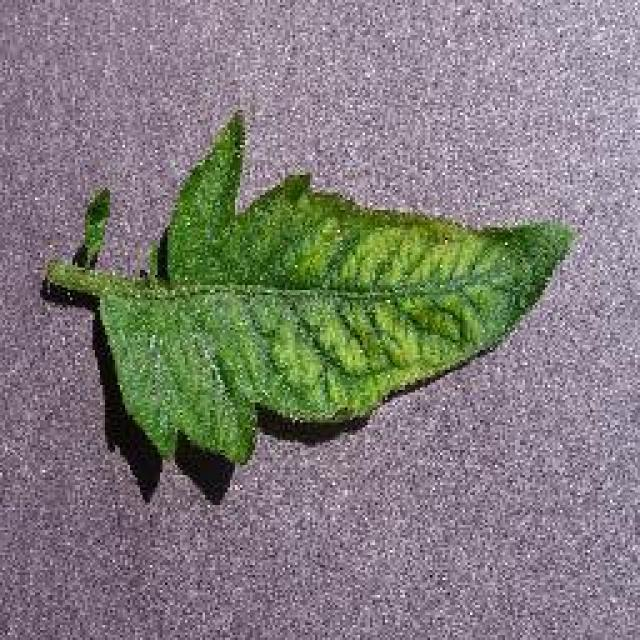Tomato spider mites leaf: (100, 111, 570, 464)
